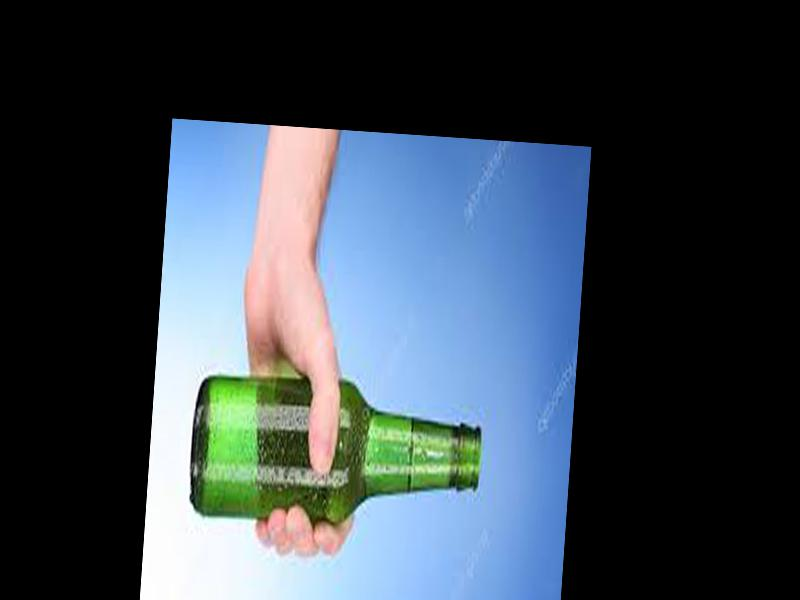Beer: (186, 374, 485, 531)
